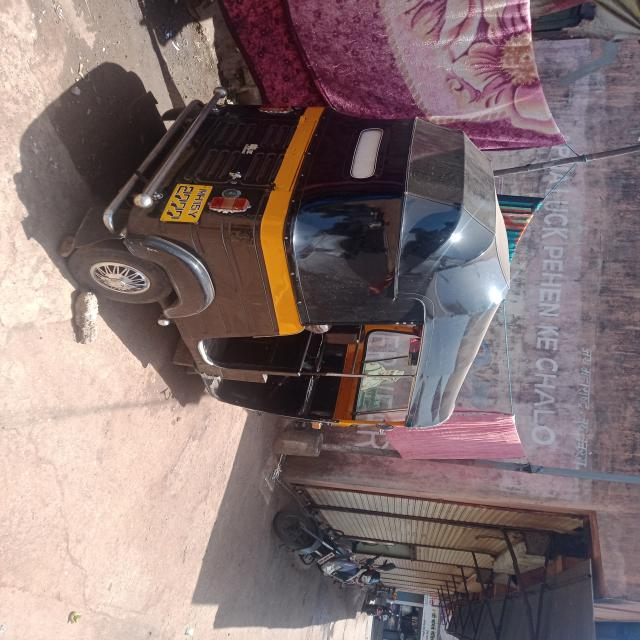Autorickshaw: (76, 69, 537, 443)
Bike: (273, 508, 361, 586), (340, 561, 398, 589), (362, 602, 394, 616), (377, 612, 396, 621)
